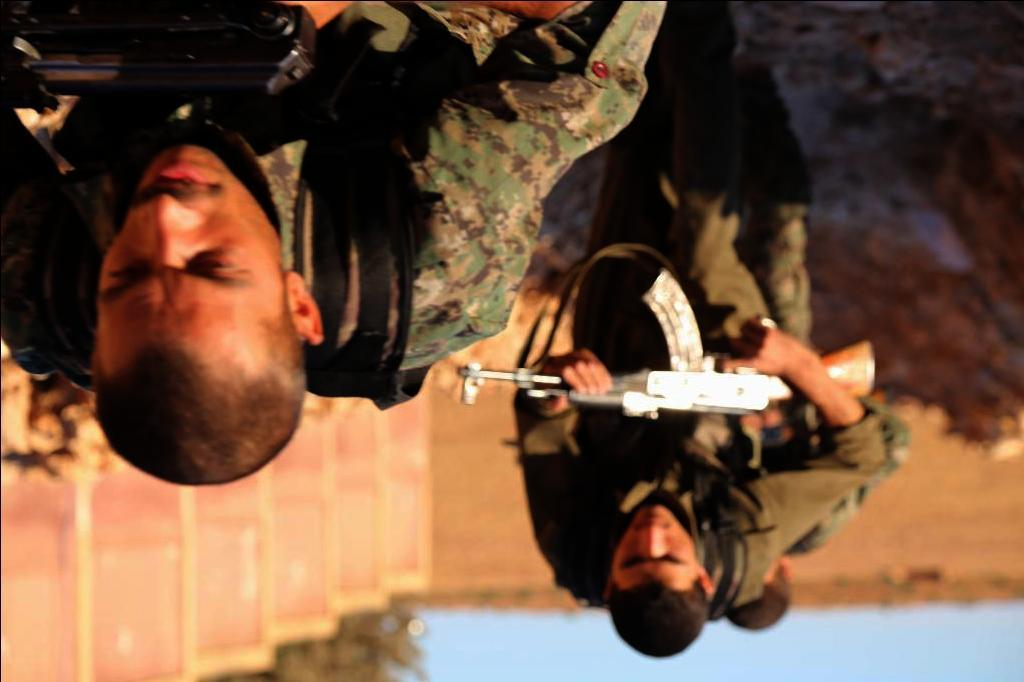gun: (446, 263, 875, 433)
